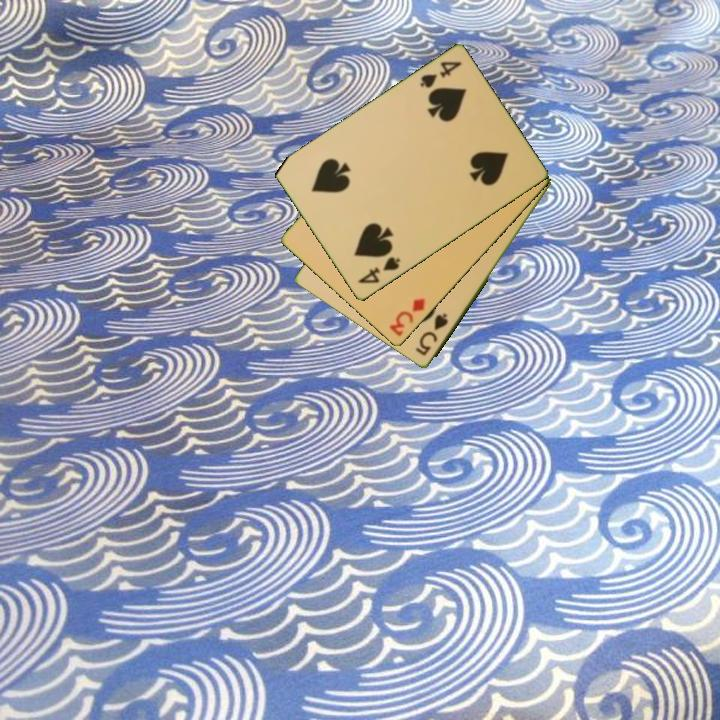3d: (386, 295, 428, 340)
4s: (416, 58, 464, 92), (354, 254, 403, 287)
5s: (411, 310, 451, 359)
